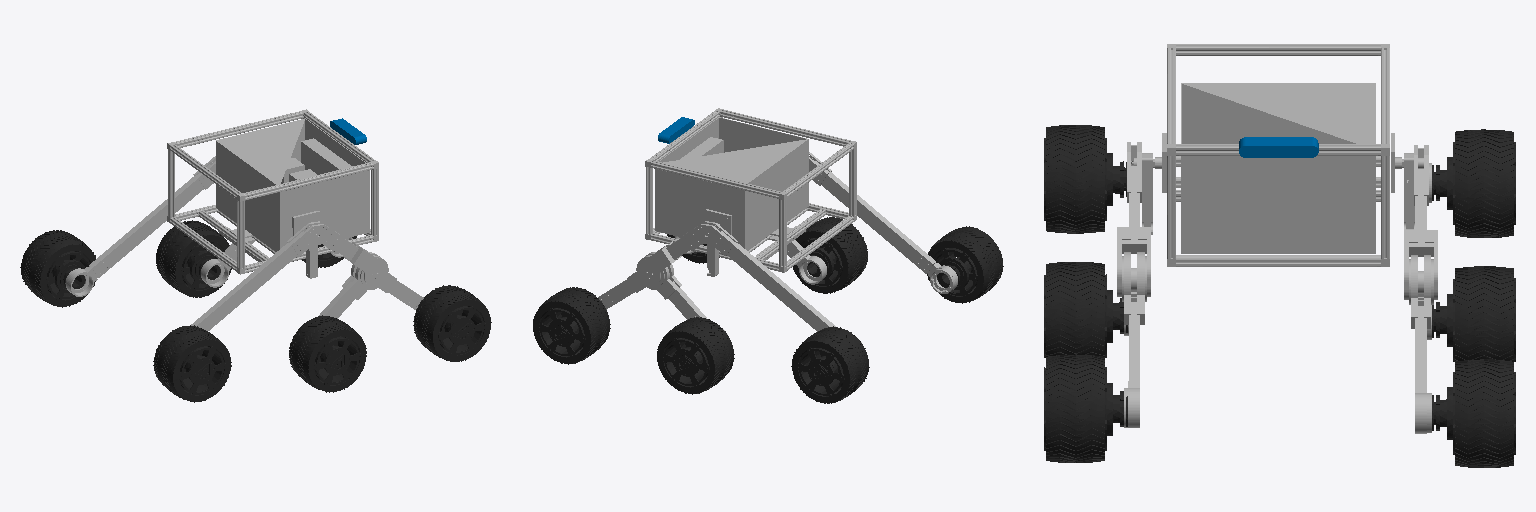
robot.urdf — rover:
<?xml version="1.0" ?>
<!-- =================================================================================== -->
<!-- |    This document was autogenerated by xacro from rover_sim.xacro                | -->
<!-- |    EDITING THIS FILE BY HAND IS NOT RECOMMENDED                                 | -->
<!-- =================================================================================== -->
<robot name="rover">
  <!-- Materials -->
  <material name="aluminum_gray">
    <color rgba="0.75 0.75 0.75 1.0"/>
  </material>
  <material name="off_black">
    <color rgba="0.2 0.2 0.2 1.0"/>
  </material>
  <!-- Links -->
  <link name="back_left_wheel_link">
    <inertial>
      <origin rpy="-1.570796 -0.000001 0.000001" xyz="-0.000784 0.092012 -0.001876"/>
      <mass value="3"/>
      <inertia ixx="0.019211" ixy="0" ixz="0" iyy="0.019211" iyz="0" izz="0.02149"/>
    </inertial>
    <visual>
      <origin rpy="-1.570796 -0.000001 0.000001" xyz="-0.000784 0.092012 -0.001876"/>
      <geometry>
        <mesh filename="package://rover_description/urdf/meshes/back_left_wheel_link_visual.obj"/>
      </geometry>
      <material name="off_black"/>
    </visual>
    <collision>
      <origin rpy="-1.570796 -0.000001 0.000001" xyz="-0.000784 0.092012 -0.001876"/>
      <geometry>
        <cylinder length="0.184024" radius="0.119695"/>
      </geometry>
    </collision>
  </link>
  <link name="back_right_wheel_link">
    <inertial>
      <origin rpy="1.570796 0 0" xyz="-0.000784 -0.092012 0.001876"/>
      <mass value="3"/>
      <inertia ixx="0.019211" ixy="0" ixz="0" iyy="0.019211" iyz="0" izz="0.02149"/>
    </inertial>
    <visual>
      <origin rpy="1.570796 0 0" xyz="-0.000784 -0.092012 0.001876"/>
      <geometry>
        <mesh filename="package://rover_description/urdf/meshes/back_right_wheel_link_visual.obj"/>
      </geometry>
      <material name="off_black"/>
    </visual>
    <collision>
      <origin rpy="1.570796 0 0" xyz="-0.000784 -0.092012 0.001876"/>
      <geometry>
        <cylinder length="0.184024" radius="0.119695"/>
      </geometry>
    </collision>
  </link>
  <link name="chassis_footprint">
    <inertial>
      <mass value="1"/>
      <inertia ixx="0.001" ixy="0" ixz="0" iyy="0.001" iyz="0" izz="0.001"/>
    </inertial>
  </link>
  <link name="chassis_link">
    <inertial>
      <origin rpy="0 0 0" xyz="0 0 0.120509"/>
      <mass value="10"/>
      <inertia ixx="0.299083" ixy="0" ixz="0" iyy="0.33375" iyz="0" izz="0.451333"/>
    </inertial>
    <visual>
      <origin rpy="0 0 0" xyz="0 0 0.120509"/>
      <geometry>
        <mesh filename="package://rover_description/urdf/meshes/chassis_link_visual.obj"/>
      </geometry>
      <material name="aluminum_gray"/>
    </visual>
    <collision>
      <origin rpy="0 0 0" xyz="0 0 0.120509"/>
      <geometry>
        <box size="0.54 0.5 0.33"/>
      </geometry>
    </collision>
  </link>
  <link name="front_left_wheel_link">
    <inertial>
      <origin rpy="-1.570796 0 0" xyz="-0.000784 0.092012 -0.001876"/>
      <mass value="3"/>
      <inertia ixx="0.019211" ixy="0" ixz="0" iyy="0.019211" iyz="0" izz="0.02149"/>
    </inertial>
    <visual>
      <origin rpy="-1.570796 0 0" xyz="-0.000784 0.092012 -0.001876"/>
      <geometry>
        <mesh filename="package://rover_description/urdf/meshes/front_left_wheel_link_visual.obj"/>
      </geometry>
      <material name="off_black"/>
    </visual>
    <collision>
      <origin rpy="-1.570796 0 0" xyz="-0.000784 0.092012 -0.001876"/>
      <geometry>
        <cylinder length="0.184024" radius="0.119695"/>
      </geometry>
    </collision>
  </link>
  <link name="front_right_wheel_link">
    <inertial>
      <origin rpy="1.570796 0 0" xyz="-0.000784 -0.092012 0.001876"/>
      <mass value="3"/>
      <inertia ixx="0.019211" ixy="0" ixz="0" iyy="0.019211" iyz="0" izz="0.02149"/>
    </inertial>
    <visual>
      <origin rpy="1.570796 0 0" xyz="-0.000784 -0.092012 0.001876"/>
      <geometry>
        <mesh filename="package://rover_description/urdf/meshes/front_right_wheel_link_visual.obj"/>
      </geometry>
      <material name="off_black"/>
    </visual>
    <collision>
      <origin rpy="1.570796 0 0" xyz="-0.000784 -0.092012 0.001876"/>
      <geometry>
        <cylinder length="0.184024" radius="0.119695"/>
      </geometry>
    </collision>
  </link>
  <link name="left_bogie_link">
    <inertial>
      <origin rpy="0 0 0" xyz="0.001424 0.0005 -0.093084"/>
      <mass value="5"/>
      <inertia ixx="0.833333" ixy="0" ixz="0" iyy="0.833333" iyz="0" izz="0.833333"/>
    </inertial>
    <visual>
      <origin rpy="1.570796 0 0" xyz="0.004906 0 -0.09396"/>
      <geometry>
        <mesh filename="package://rover_description/urdf/meshes/left_bogie_link_visual.obj"/>
      </geometry>
      <material name="aluminum_gray"/>
    </visual>
    <collision>
      <origin rpy="0 0 0" xyz="0.001424 0.0005 -0.093084"/>
      <geometry>
        <mesh filename="package://rover_description/urdf/meshes/left_bogie_link_collision.stl"/>
      </geometry>
    </collision>
  </link>
  <link name="left_rocker_link">
    <inertial>
      <origin rpy="0 0 0" xyz="-0.180935 -0.001197 -0.156518"/>
      <mass value="4"/>
      <inertia ixx="0.666667" ixy="0" ixz="0" iyy="0.666667" iyz="0" izz="0.666667"/>
    </inertial>
    <visual>
      <origin rpy="0 0 0" xyz="-0.17271 0 -0.157656"/>
      <geometry>
        <mesh filename="package://rover_description/urdf/meshes/left_rocker_link_visual.obj"/>
      </geometry>
      <material name="aluminum_gray"/>
    </visual>
    <collision>
      <origin rpy="0 0 0" xyz="-0.180935 -0.001197 -0.156518"/>
      <geometry>
        <mesh filename="package://rover_description/urdf/meshes/left_rocker_link_collision.stl"/>
      </geometry>
    </collision>
  </link>
  <link name="middle_left_wheel_link">
    <inertial>
      <origin rpy="-1.570796 0 0.000001" xyz="-0.000784 0.092012 -0.001876"/>
      <mass value="3"/>
      <inertia ixx="0.019211" ixy="0" ixz="0" iyy="0.019211" iyz="0" izz="0.02149"/>
    </inertial>
    <visual>
      <origin rpy="-1.570796 0 0.000001" xyz="-0.000784 0.092012 -0.001876"/>
      <geometry>
        <mesh filename="package://rover_description/urdf/meshes/middle_left_wheel_link_visual.obj"/>
      </geometry>
      <material name="off_black"/>
    </visual>
    <collision>
      <origin rpy="-1.570796 0 0.000001" xyz="-0.000784 0.092012 -0.001876"/>
      <geometry>
        <cylinder length="0.184024" radius="0.119695"/>
      </geometry>
    </collision>
  </link>
  <link name="middle_right_wheel_link">
    <inertial>
      <origin rpy="1.570796 0 0" xyz="-0.000784 -0.092012 0.001876"/>
      <mass value="3"/>
      <inertia ixx="0.019211" ixy="0" ixz="0" iyy="0.019211" iyz="0" izz="0.02149"/>
    </inertial>
    <visual>
      <origin rpy="1.570796 0 0" xyz="-0.000784 -0.092012 0.001876"/>
      <geometry>
        <mesh filename="package://rover_description/urdf/meshes/middle_right_wheel_link_visual.obj"/>
      </geometry>
      <material name="off_black"/>
    </visual>
    <collision>
      <origin rpy="1.570796 0 0" xyz="-0.000784 -0.092012 0.001876"/>
      <geometry>
        <cylinder length="0.184024" radius="0.119695"/>
      </geometry>
    </collision>
  </link>
  <link name="right_bogie_link">
    <inertial>
      <origin rpy="-1.570799 3.138344 0" xyz="-0.00177 -0.0005 -0.093474"/>
      <mass value="5"/>
      <inertia ixx="0.833333" ixy="0" ixz="0" iyy="0.833333" iyz="0" izz="0.833333"/>
    </inertial>
    <visual>
      <origin rpy="1.570794 0 -3.141593" xyz="-0.004907 0 -0.09396"/>
      <geometry>
        <mesh filename="package://rover_description/urdf/meshes/right_bogie_link_visual.obj"/>
      </geometry>
      <material name="aluminum_gray"/>
    </visual>
    <collision>
      <origin rpy="-1.570799 3.138344 0" xyz="-0.00177 -0.0005 -0.093474"/>
      <geometry>
        <mesh filename="package://rover_description/urdf/meshes/right_bogie_link_collision.stl"/>
      </geometry>
    </collision>
  </link>
  <link name="right_rocker_link">
    <inertial>
      <origin rpy="0 0 0" xyz="-0.180935 -0.001197 -0.156518"/>
      <mass value="4"/>
      <inertia ixx="0.666667" ixy="0" ixz="0" iyy="0.666667" iyz="0" izz="0.666667"/>
    </inertial>
    <visual>
      <origin rpy="0 0 0" xyz="-0.17271 0 -0.157656"/>
      <geometry>
        <mesh filename="package://rover_description/urdf/meshes/right_rocker_link_visual.obj"/>
      </geometry>
      <material name="aluminum_gray"/>
    </visual>
    <collision>
      <origin rpy="0 0 0" xyz="-0.180935 -0.001197 -0.156518"/>
      <geometry>
        <mesh filename="package://rover_description/urdf/meshes/right_rocker_link_collision.stl"/>
      </geometry>
    </collision>
  </link>
  <link name="zed_camera_link">
    <inertial>
      <origin rpy="0 -1.570796 0" xyz="0.02155 0 0"/>
      <mass value="0.229"/>
      <inertia ixx="0.000622" ixy="0" ixz="0" iyy="0.000053" iyz="0" izz="0.000604"/>
    </inertial>
    <visual>
      <origin rpy="0 0 0" xyz="0.02155 0 0"/>
      <geometry>
        <mesh filename="package://rover_description/urdf/meshes/zed_camera_link_visual.stl"/>
      </geometry>
    </visual>
    <collision>
      <origin rpy="0 -1.570796 0" xyz="0.02155 0 0"/>
      <geometry>
        <box size="0.0303 0.1753 0.0431"/>
      </geometry>
    </collision>
  </link>
  <link name="zed_camera_optical_frame"/>
  <!-- Joints -->
  <joint name="back_left_wheel_link_joint" type="continuous">
    <origin rpy="0 0 0" xyz="-0.550766 0.0235 -0.305642"/>
    <parent link="left_rocker_link"/>
    <child link="back_left_wheel_link"/>
    <axis xyz="0 1 0"/>
    <limit effort="12" lower="0" upper="0" velocity="15"/>
    <dynamics damping="1.0" friction="1.5"/>
  </joint>
  <joint name="back_right_wheel_link_joint" type="continuous">
    <origin rpy="0 0 0" xyz="-0.55172 -0.0135 -0.306193"/>
    <parent link="right_rocker_link"/>
    <child link="back_right_wheel_link"/>
    <axis xyz="0 1 0"/>
    <limit effort="12" lower="0" upper="0" velocity="15"/>
    <dynamics damping="1.0" friction="1.5"/>
  </joint>
  <joint name="chassis_link_joint" type="fixed">
    <origin rpy="0 0 0" xyz="0.017593 -0.313117 -0.118479"/>
    <parent link="chassis_footprint"/>
    <child link="chassis_link"/>
  </joint>
  <joint name="front_left_wheel_link_joint" type="continuous">
    <origin rpy="0 0 0" xyz="0.246102 0.0235 -0.202872"/>
    <parent link="left_bogie_link"/>
    <child link="front_left_wheel_link"/>
    <axis xyz="0 1 0"/>
    <limit effort="12" lower="0" upper="0" velocity="15"/>
    <dynamics damping="1.0" friction="1.5"/>
  </joint>
  <joint name="front_right_wheel_link_joint" type="continuous">
    <origin rpy="0 0 0" xyz="0.247131 -0.0135 -0.201737"/>
    <parent link="right_bogie_link"/>
    <child link="front_right_wheel_link"/>
    <axis xyz="0 1 0"/>
    <limit effort="12" lower="0" upper="0" velocity="15"/>
    <dynamics damping="1.0" friction="1.5"/>
  </joint>
  <joint name="left_bogie_link_joint" type="revolute">
    <origin rpy="-0.000001 0 0" xyz="0.210291 0 -0.190873"/>
    <parent link="left_rocker_link"/>
    <child link="left_bogie_link"/>
    <axis xyz="0 1 0"/>
    <limit effort="10" lower="-0.5236" upper="0.5236" velocity="1"/>
    <dynamics damping="0.3" friction="0.5"/>
  </joint>
  <joint name="left_rocker_link_joint" type="revolute">
    <origin rpy="0 0 0" xyz="-0.017593 0.313117 0.118479"/>
    <parent link="chassis_link"/>
    <child link="left_rocker_link"/>
    <axis xyz="0 1 0"/>
    <limit effort="10" lower="-1.570795" upper="1.570795" velocity="1"/>
    <dynamics damping="0.5" friction="1000.0"/>
  </joint>
  <joint name="middle_left_wheel_link_joint" type="continuous">
    <origin rpy="0 0 0" xyz="-0.236289 0.0235 -0.201885"/>
    <parent link="left_bogie_link"/>
    <child link="middle_left_wheel_link"/>
    <axis xyz="0 1 0"/>
    <limit effort="12" lower="0" upper="0" velocity="15"/>
    <dynamics damping="1.0" friction="1.5"/>
  </joint>
  <joint name="middle_right_wheel_link_joint" type="continuous">
    <origin rpy="0 0 0" xyz="-0.236289 -0.0135 -0.201885"/>
    <parent link="right_bogie_link"/>
    <child link="middle_right_wheel_link"/>
    <axis xyz="0 1 0"/>
    <limit effort="12" lower="0" upper="0" velocity="15"/>
    <dynamics damping="1.0" friction="1.5"/>
  </joint>
  <joint name="right_bogie_link_joint" type="revolute">
    <origin rpy="0 0 0" xyz="0.210291 0 -0.190873"/>
    <parent link="right_rocker_link"/>
    <child link="right_bogie_link"/>
    <axis xyz="0 1 0"/>
    <limit effort="10" lower="-0.5236" upper="0.5236" velocity="1"/>
    <dynamics damping="0.3" friction="0.5"/>
  </joint>
  <joint name="right_rocker_link_joint" type="revolute">
    <origin rpy="0 0 0" xyz="-0.018794 -0.317419 0.125316"/>
    <parent link="chassis_link"/>
    <child link="right_rocker_link"/>
    <axis xyz="0 1 0"/>
    <limit effort="10" lower="-3.141593" upper="3.141593" velocity="1"/>
    <dynamics damping="0.5" friction="1000.0"/>
  </joint>
  <joint name="zed_camera_link_joint" type="fixed">
    <origin rpy="0 0 0" xyz="0.27 0 0.30"/>
    <parent link="chassis_link"/>
    <child link="zed_camera_link"/>
  </joint>
  <joint name="zed_camera_optical_frame_joint" type="fixed">
    <origin rpy="-1.5707963267948966 0.0 -1.5707963267948966" xyz="0.0 0.0 0.0"/>
    <parent link="zed_camera_link"/>
    <child link="zed_camera_optical_frame"/>
  </joint>
  <!-- Gazebo Plugins -->
  <gazebo>
    <plugin filename="gz-sim-joint-state-publisher-system" name="gz::sim::systems::JointStatePublisher">
      <topic>joint_states</topic>
    </plugin>
  </gazebo>
  <gazebo>
    <plugin filename="gz-sim-diff-drive-system" name="gz::sim::systems::DiffDrive">
      <left_joint>front_left_wheel_link_joint</left_joint>
      <left_joint>middle_left_wheel_link_joint</left_joint>
      <left_joint>back_left_wheel_link_joint</left_joint>
      <right_joint>front_right_wheel_link_joint</right_joint>
      <right_joint>middle_right_wheel_link_joint</right_joint>
      <right_joint>back_right_wheel_link_joint</right_joint>
      <wheel_separation>0.63</wheel_separation>
      <wheel_radius>0.119695</wheel_radius>
      <max_linear_acceleration>1.0</max_linear_acceleration>
      <max_angular_acceleration>2.0</max_angular_acceleration>
      <topic>cmd_vel</topic>
      <odom_topic>odom</odom_topic>
      <tf_topic>tf</tf_topic>
      <frame_id>odom</frame_id>
      <child_frame_id>chassis_footprint</child_frame_id>
      <odom_publish_frequency>30</odom_publish_frequency>
    </plugin>
  </gazebo>
  <gazebo>
    <plugin filename="gz-sim-sensors-system" name="gz::sim::systems::Sensors">
      <render_engine>ogre2</render_engine>
    </plugin>
  </gazebo>
  <!-- Gazebo Sensors (Attached directly to zed_camera_link) -->
  <gazebo reference="zed_camera_link">
    <visual>
      <material>
        <ambient>0.1 0.1 0.1 1.0</ambient>
        <diffuse>0.15 0.15 0.15 1.0</diffuse>
        <specular>0.4 0.4 0.4 1.0</specular>
      </material>
    </visual>
    <!-- RGB Camera Sensor -->
    <sensor name="zed_rgb_camera" type="camera">
      <always_on>true</always_on>
      <update_rate>15</update_rate>
      <visualize>true</visualize>
      <topic>/zed/image_raw</topic>
      <gz_frame_id>zed_camera_optical_frame</gz_frame_id>
      <camera>
        <horizontal_fov>1.919862</horizontal_fov>
        <image>
          <width>1280</width>
          <height>720</height>
          <format>R8G8B8</format>
        </image>
        <clip>
          <near>0.2</near>
          <far>20</far>
        </clip>
      </camera>
    </sensor>
    <!-- IMU Sensor -->
    <sensor name="zed_imu_sensor" type="imu">
      <always_on>true</always_on>
      <update_rate>100</update_rate>
      <visualize>false</visualize>
      <topic>/zed/imu/data</topic>
      <gz_frame_id>zed_camera_link</gz_frame_id>
      <imu>
        <angular_velocity>
          <x>
            <noise type="gaussian">
              <mean>0.0</mean>
              <stddev>2e-4</stddev>
            </noise>
          </x>
          <y>
            <noise type="gaussian">
              <mean>0.0</mean>
              <stddev>2e-4</stddev>
            </noise>
          </y>
          <z>
            <noise type="gaussian">
              <mean>0.0</mean>
              <stddev>2e-4</stddev>
            </noise>
          </z>
        </angular_velocity>
        <linear_acceleration>
          <x>
            <noise type="gaussian">
              <mean>0.0</mean>
              <stddev>1.7e-2</stddev>
            </noise>
          </x>
          <y>
            <noise type="gaussian">
              <mean>0.0</mean>
              <stddev>1.7e-2</stddev>
            </noise>
          </y>
          <z>
            <noise type="gaussian">
              <mean>0.0</mean>
              <stddev>1.7e-2</stddev>
            </noise>
          </z>
        </linear_acceleration>
      </imu>
    </sensor>
  </gazebo>
  <!-- Materials for Gazebo Sim Rendering -->
  <gazebo reference="chassis_link">
    <visual>
      <material>
        <ambient>0.6 0.6 0.6 1</ambient>
        <diffuse>0.75 0.75 0.75 1</diffuse>
        <specular>0.8 0.8 0.8 1</specular>
      </material>
    </visual>
  </gazebo>
  <gazebo reference="left_rocker_link">
    <visual>
      <material>
        <ambient>0.6 0.6 0.6 1</ambient>
        <diffuse>0.75 0.75 0.75 1</diffuse>
        <specular>0.8 0.8 0.8 1</specular>
      </material>
    </visual>
  </gazebo>
  <gazebo reference="right_rocker_link">
    <visual>
      <material>
        <ambient>0.6 0.6 0.6 1</ambient>
        <diffuse>0.75 0.75 0.75 1</diffuse>
        <specular>0.8 0.8 0.8 1</specular>
      </material>
    </visual>
  </gazebo>
  <gazebo reference="left_bogie_link">
    <visual>
      <material>
        <ambient>0.6 0.6 0.6 1</ambient>
        <diffuse>0.75 0.75 0.75 1</diffuse>
        <specular>0.8 0.8 0.8 1</specular>
      </material>
    </visual>
  </gazebo>
  <gazebo reference="right_bogie_link">
    <visual>
      <material>
        <ambient>0.6 0.6 0.6 1</ambient>
        <diffuse>0.75 0.75 0.75 1</diffuse>
        <specular>0.8 0.8 0.8 1</specular>
      </material>
    </visual>
  </gazebo>
  <gazebo reference="back_left_wheel_link">
    <visual>
      <material>
        <ambient>0.15 0.15 0.15 1</ambient>
        <diffuse>0.2 0.2 0.2 1</diffuse>
        <specular>0.1 0.1 0.1 1</specular>
      </material>
    </visual>
  </gazebo>
  <gazebo reference="back_right_wheel_link">
    <visual>
      <material>
        <ambient>0.15 0.15 0.15 1</ambient>
        <diffuse>0.2 0.2 0.2 1</diffuse>
        <specular>0.1 0.1 0.1 1</specular>
      </material>
    </visual>
  </gazebo>
  <gazebo reference="front_left_wheel_link">
    <visual>
      <material>
        <ambient>0.15 0.15 0.15 1</ambient>
        <diffuse>0.2 0.2 0.2 1</diffuse>
        <specular>0.1 0.1 0.1 1</specular>
      </material>
    </visual>
  </gazebo>
  <gazebo reference="front_right_wheel_link">
    <visual>
      <material>
        <ambient>0.15 0.15 0.15 1</ambient>
        <diffuse>0.2 0.2 0.2 1</diffuse>
        <specular>0.1 0.1 0.1 1</specular>
      </material>
    </visual>
  </gazebo>
  <gazebo reference="middle_left_wheel_link">
    <visual>
      <material>
        <ambient>0.15 0.15 0.15 1</ambient>
        <diffuse>0.2 0.2 0.2 1</diffuse>
        <specular>0.1 0.1 0.1 1</specular>
      </material>
    </visual>
  </gazebo>
  <gazebo reference="middle_right_wheel_link">
    <visual>
      <material>
        <ambient>0.15 0.15 0.15 1</ambient>
        <diffuse>0.2 0.2 0.2 1</diffuse>
        <specular>0.1 0.1 0.1 1</specular>
      </material>
    </visual>
  </gazebo>
</robot>

--- What the picture shows (computed from the rendered views, not written in the file) ---
3 views of the same robot in one strip: view 1: azimuth 30°, elevation 25°; view 2: azimuth 150°, elevation 25°; view 3: azimuth 270°, elevation 25° (orthographic).
Robot: rover — 14 links, 13 joints (4 revolute, 6 continuous, 3 fixed); root link chassis_footprint; default pose: every joint at zero.
Links seen in each view (by area): view 1: chassis_link, front_right_wheel_link, middle_right_wheel_link, back_right_wheel_link, right_rocker_link, back_left_wheel_link, middle_left_wheel_link, left_rocker_link, right_bogie_link, left_bogie_link; view 2: chassis_link, front_left_wheel_link, middle_left_wheel_link, back_left_wheel_link, left_rocker_link, back_right_wheel_link, middle_right_wheel_link, right_rocker_link, left_bogie_link, right_bogie_link; view 3: chassis_link, front_left_wheel_link, back_left_wheel_link, back_right_wheel_link, front_right_wheel_link, middle_left_wheel_link, middle_right_wheel_link, left_bogie_link, right_bogie_link, left_rocker_link, right_rocker_link, zed_camera_link.
Boxes of the visible links, box(x1,y1,x2,y2) form: chassis_link: box(167, 109, 378, 278); front_right_wheel_link: box(413, 285, 491, 361); middle_right_wheel_link: box(289, 315, 366, 392); back_right_wheel_link: box(153, 325, 231, 402); right_rocker_link: box(191, 221, 385, 330); back_left_wheel_link: box(20, 230, 95, 307); middle_left_wheel_link: box(156, 220, 231, 297); left_rocker_link: box(65, 156, 215, 296); right_bogie_link: box(319, 252, 423, 318); left_bogie_link: box(201, 237, 352, 287); chassis_link: box(645, 108, 856, 276); front_left_wheel_link: box(533, 287, 610, 364); middle_left_wheel_link: box(657, 317, 734, 394); back_left_wheel_link: box(791, 326, 869, 403); left_rocker_link: box(639, 221, 861, 342); back_right_wheel_link: box(927, 226, 1003, 303); middle_right_wheel_link: box(793, 217, 867, 293); right_rocker_link: box(809, 152, 957, 293); left_bogie_link: box(598, 252, 727, 334); right_bogie_link: box(675, 236, 826, 284); chassis_link: box(1131, 44, 1423, 266); front_left_wheel_link: box(1432, 359, 1515, 467); back_left_wheel_link: box(1432, 129, 1515, 237); back_right_wheel_link: box(1044, 125, 1126, 233); front_right_wheel_link: box(1044, 354, 1127, 462); middle_left_wheel_link: box(1432, 266, 1515, 361); middle_right_wheel_link: box(1044, 262, 1127, 357); left_bogie_link: box(1409, 255, 1433, 433); right_bogie_link: box(1122, 252, 1146, 427); left_rocker_link: box(1404, 145, 1437, 299); right_rocker_link: box(1117, 142, 1150, 296); zed_camera_link: box(1239, 137, 1318, 157).
Size in the robot's own frame: 1.25 by 1.04 by 0.712 metres.
12 mesh visuals loaded from 12 distinct referenced files (1 binary STL, 11 OBJ).
